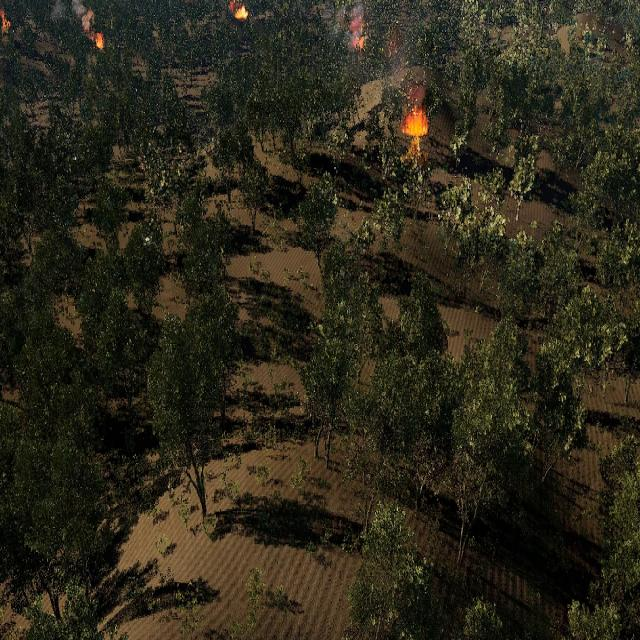fire: (400, 110, 428, 138), (229, 0, 248, 18), (352, 32, 366, 51), (0, 9, 9, 30), (97, 34, 105, 48)
smoke: (386, 0, 430, 101), (50, 0, 96, 40), (338, 0, 368, 29)
